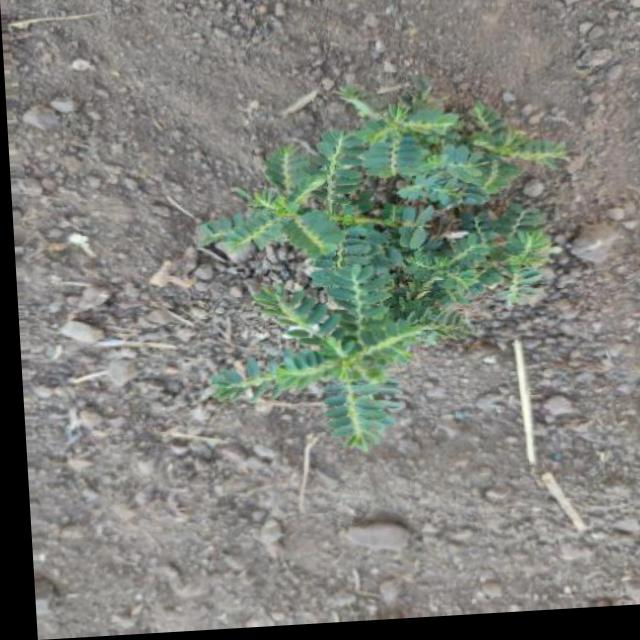weed: (188, 88, 576, 485)
